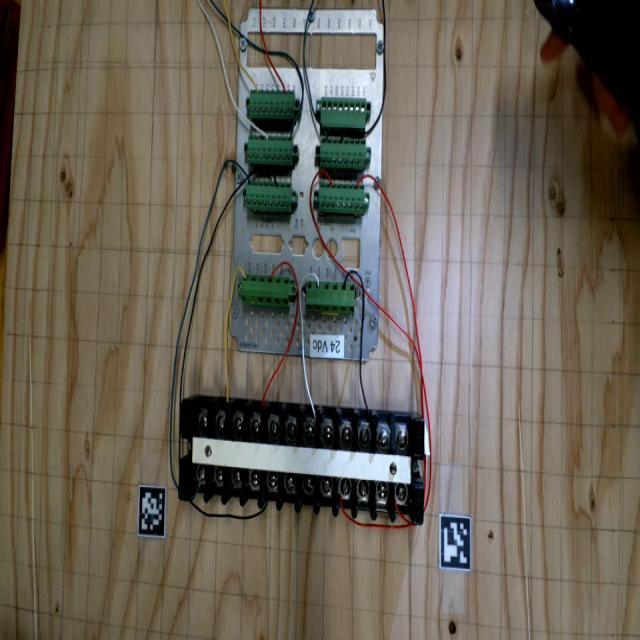Flathead_Block: (172, 397, 433, 524)
Terminal_1: (239, 273, 291, 307), (306, 280, 355, 314)
Terminal_2: (244, 180, 292, 212), (318, 182, 365, 214), (320, 138, 366, 169), (247, 136, 292, 165), (249, 90, 294, 119)
